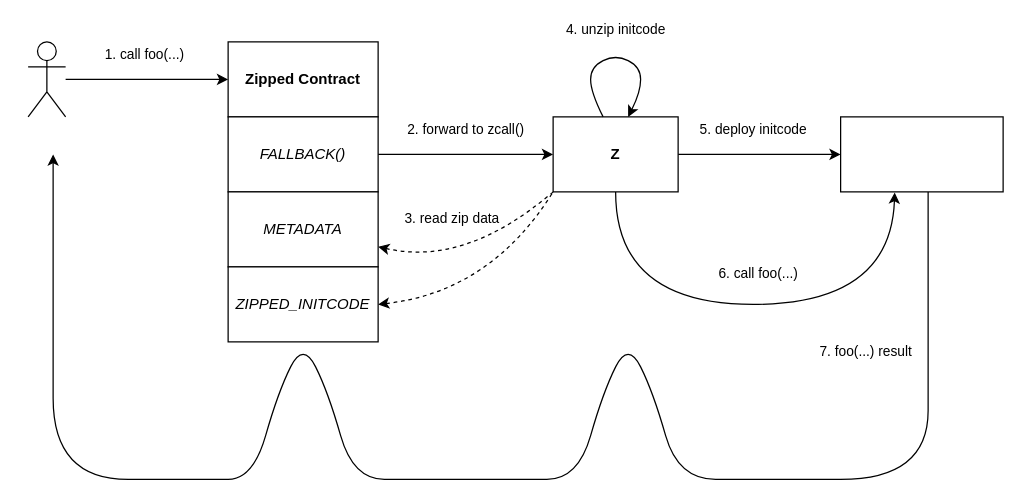
Image size: 1025x501. Some labels were removed from this diagram. The shapes that lost their labels are listed below. From the top down, each one's centre as x and y in pixels, then its label:
At pixel 46 79: "eth_call".
At pixel 921 154: "Unzipped Contract".
